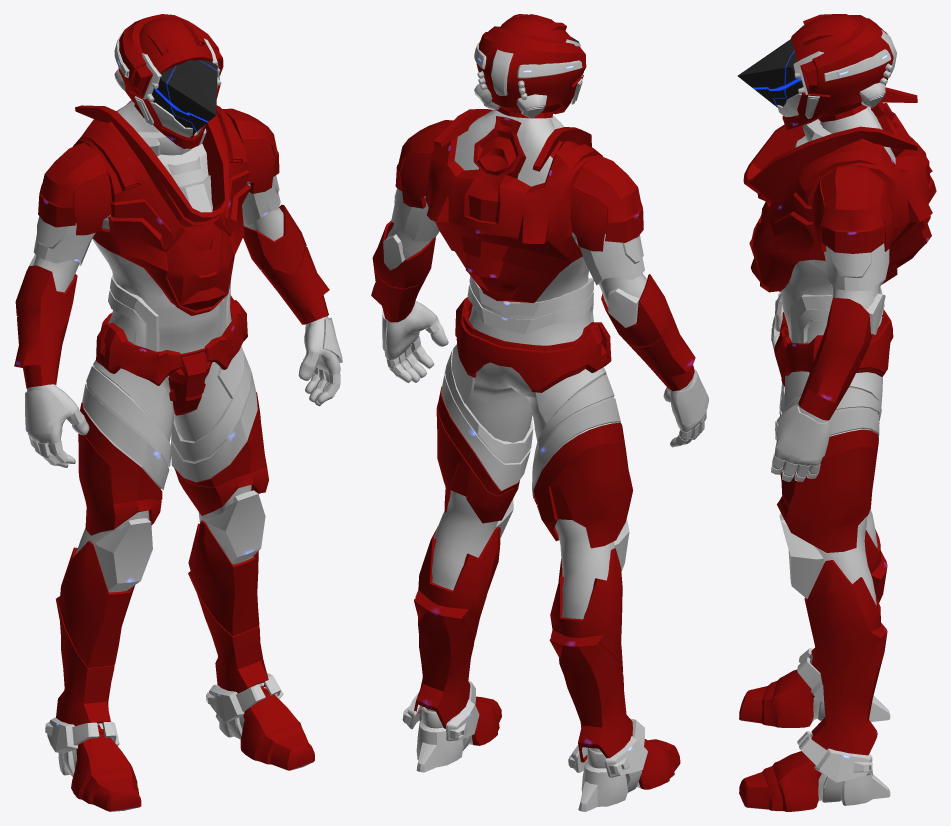
Rendered from MyPlayer.fbx.
3 renders of one model, left to right at view 1: azimuth 30°, elevation 25°; view 2: azimuth 150°, elevation 25°; view 3: azimuth 270°, elevation 25°, orthographic. The views are drawn at different scales.
Visible parts, largest first — view 1: Armor, Body; view 2: Armor, Body; view 3: Armor, Body.
Part boxes in pixels (bbox=[...]): Armor: bbox=[14, 14, 342, 811]; Body: bbox=[27, 100, 340, 592]; Armor: bbox=[371, 14, 708, 811]; Body: bbox=[384, 109, 705, 619]; Armor: bbox=[737, 14, 936, 811]; Body: bbox=[771, 106, 895, 606].
Bounding box in the file's own units: 0.8952 × 2.02 × 0.4927.
